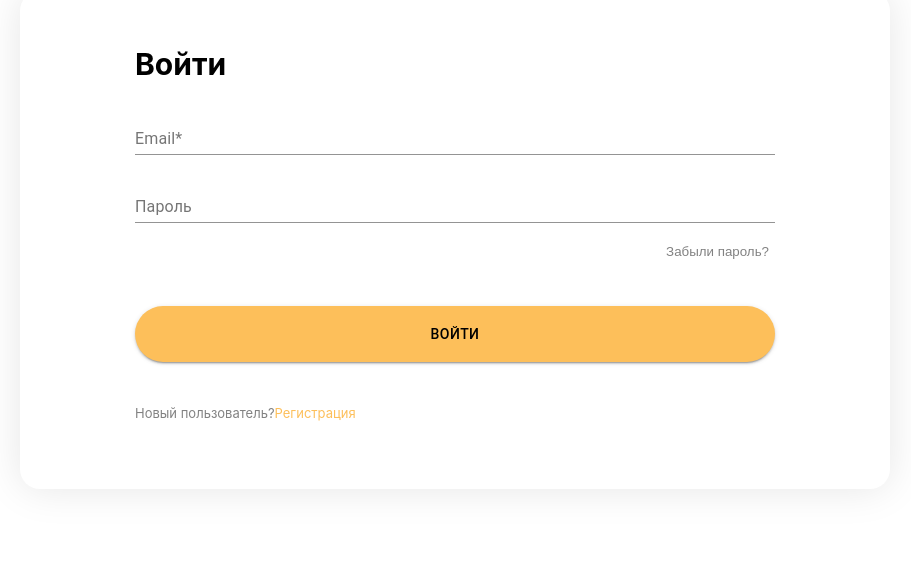
Test: StartForm › changes form after click
This screenshot has width=911, height=561.
Check: the heading with test id "form-title" reads "Войти", box x1=135 y1=46 x2=226 y2=82
Check: the button with test id "form-name-input" is shown, box x1=135 y1=243 x2=775 y2=260
Step 1. Click the text with test id "form-change-button" → {"x": 315, "y": 413}, box x1=275 y1=405 x2=356 y2=421
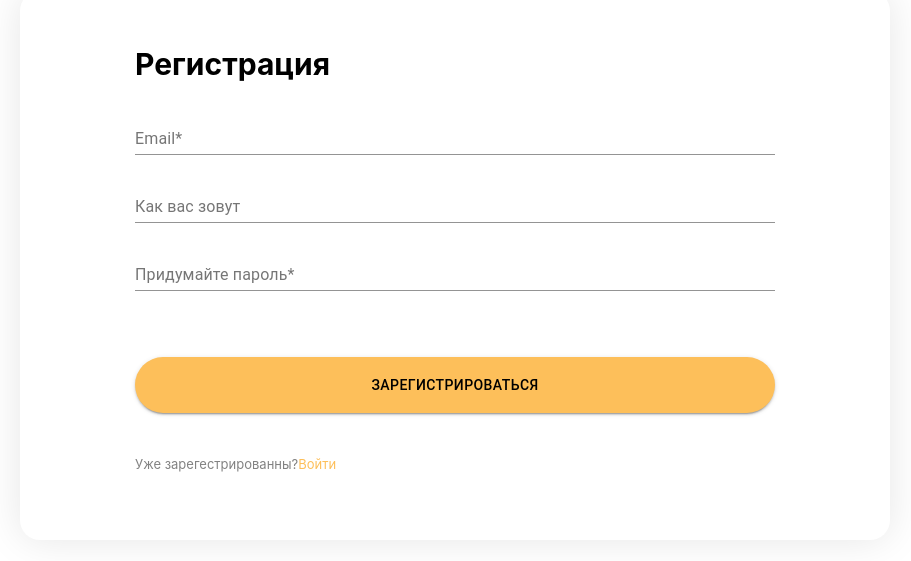
Check: the heading with test id "form-title" reads "Регистрация", box x1=135 y1=46 x2=330 y2=82
Check: the button with test id "form-name-input" is gone
Step 2. Click the text with test id "form-change-button" → {"x": 317, "y": 464}, box x1=298 y1=456 x2=336 y2=472
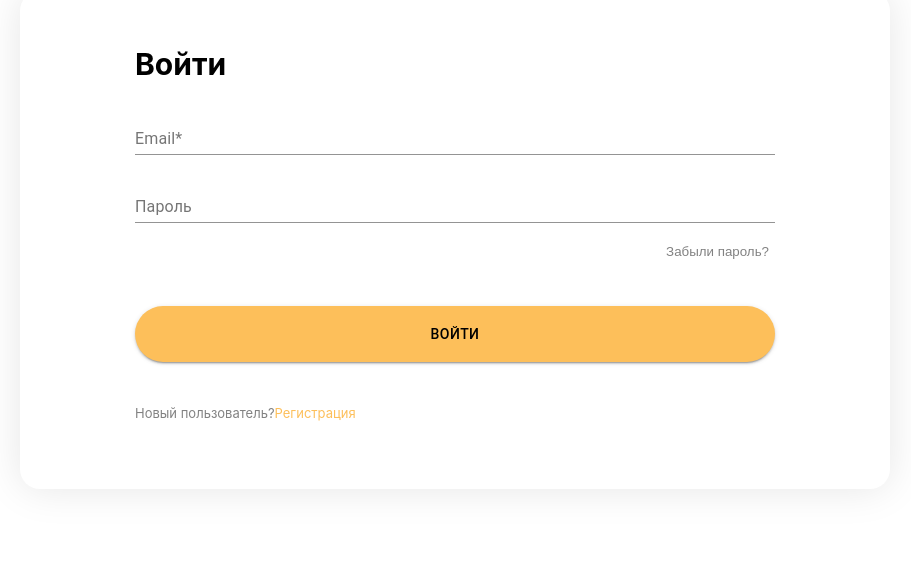
Check: the heading with test id "form-title" reads "Войти", box x1=135 y1=46 x2=226 y2=82
Check: the button with test id "form-name-input" is shown, box x1=135 y1=243 x2=775 y2=260
